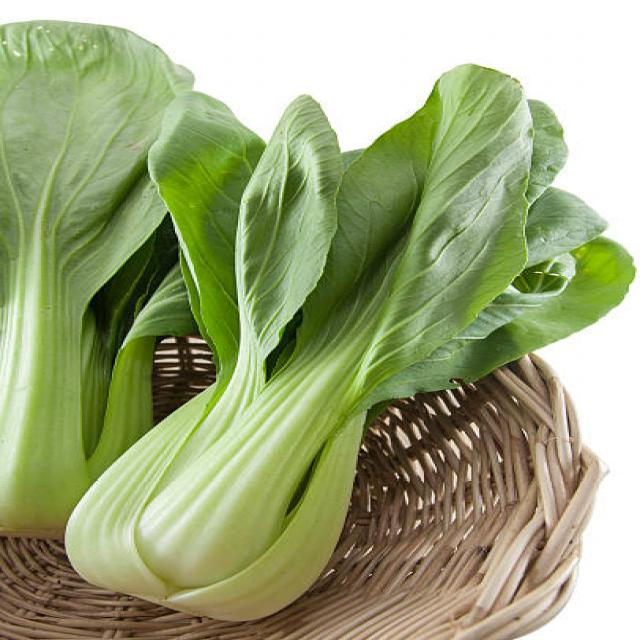bok choy: (186, 184, 437, 636), (0, 71, 142, 523)
